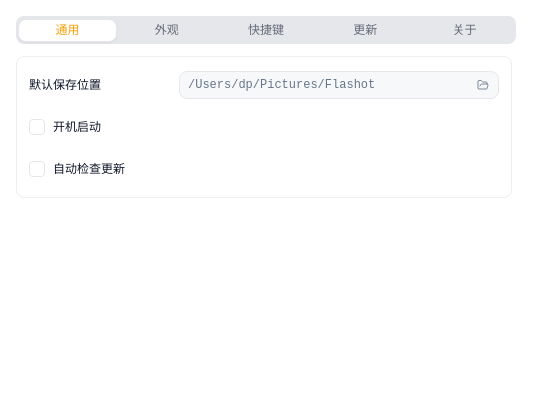
it: SettingsRoute › renders settings labels in Simplified Chinese when selected
This screenshot has width=533, height=393.
Expected: the tab "外观" is shown, [117,18,216,42]
Expected: the tab "通用" is shown, [18,18,117,42]
Click the tab "快捷键": x=266, y=30 [216,18,316,42]
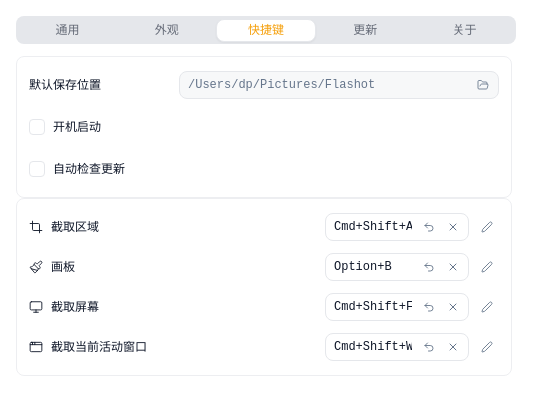
Now the text "截取区域" is shown, box [51,219,99,235]
Now the text "截取当前活动窗口" is shown, box [51,339,147,355]
Click the tab "外观": x=167, y=30 [117,18,216,42]
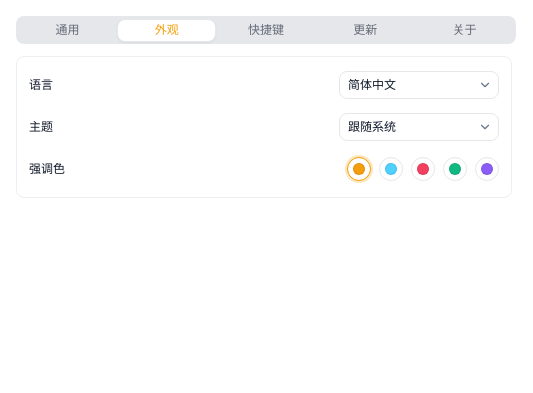
Now the dropdown named "语言" is shown, box [339,71,499,99]
Now the label "保存" is gone
